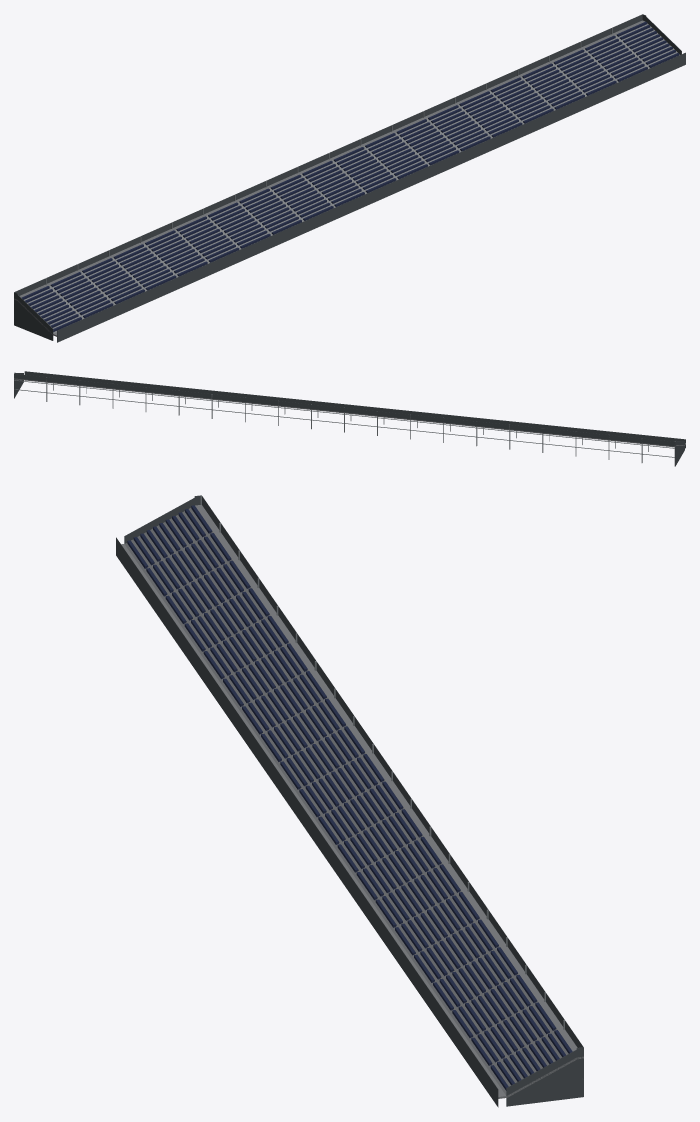
The model's file is sil_stand_farm.glb.
The picture shows the model from 3 angles, top to bottom: view 1: azimuth 30°, elevation 25°; view 2: azimuth 150°, elevation 25°; view 3: azimuth 270°, elevation 25°; orthographic projection. The views are drawn at different scales.
Parts seen in each view (by area): view 1: silverstone-farm; view 2: silverstone-farm; view 3: silverstone-farm.
Part boxes in pixels (x1,y1,x2,y2): silverstone-farm: (14, 14, 685, 342); silverstone-farm: (14, 371, 685, 466); silverstone-farm: (116, 495, 583, 1107).
Size of the model in its own units: 160 by 6.56 by 56.19.
